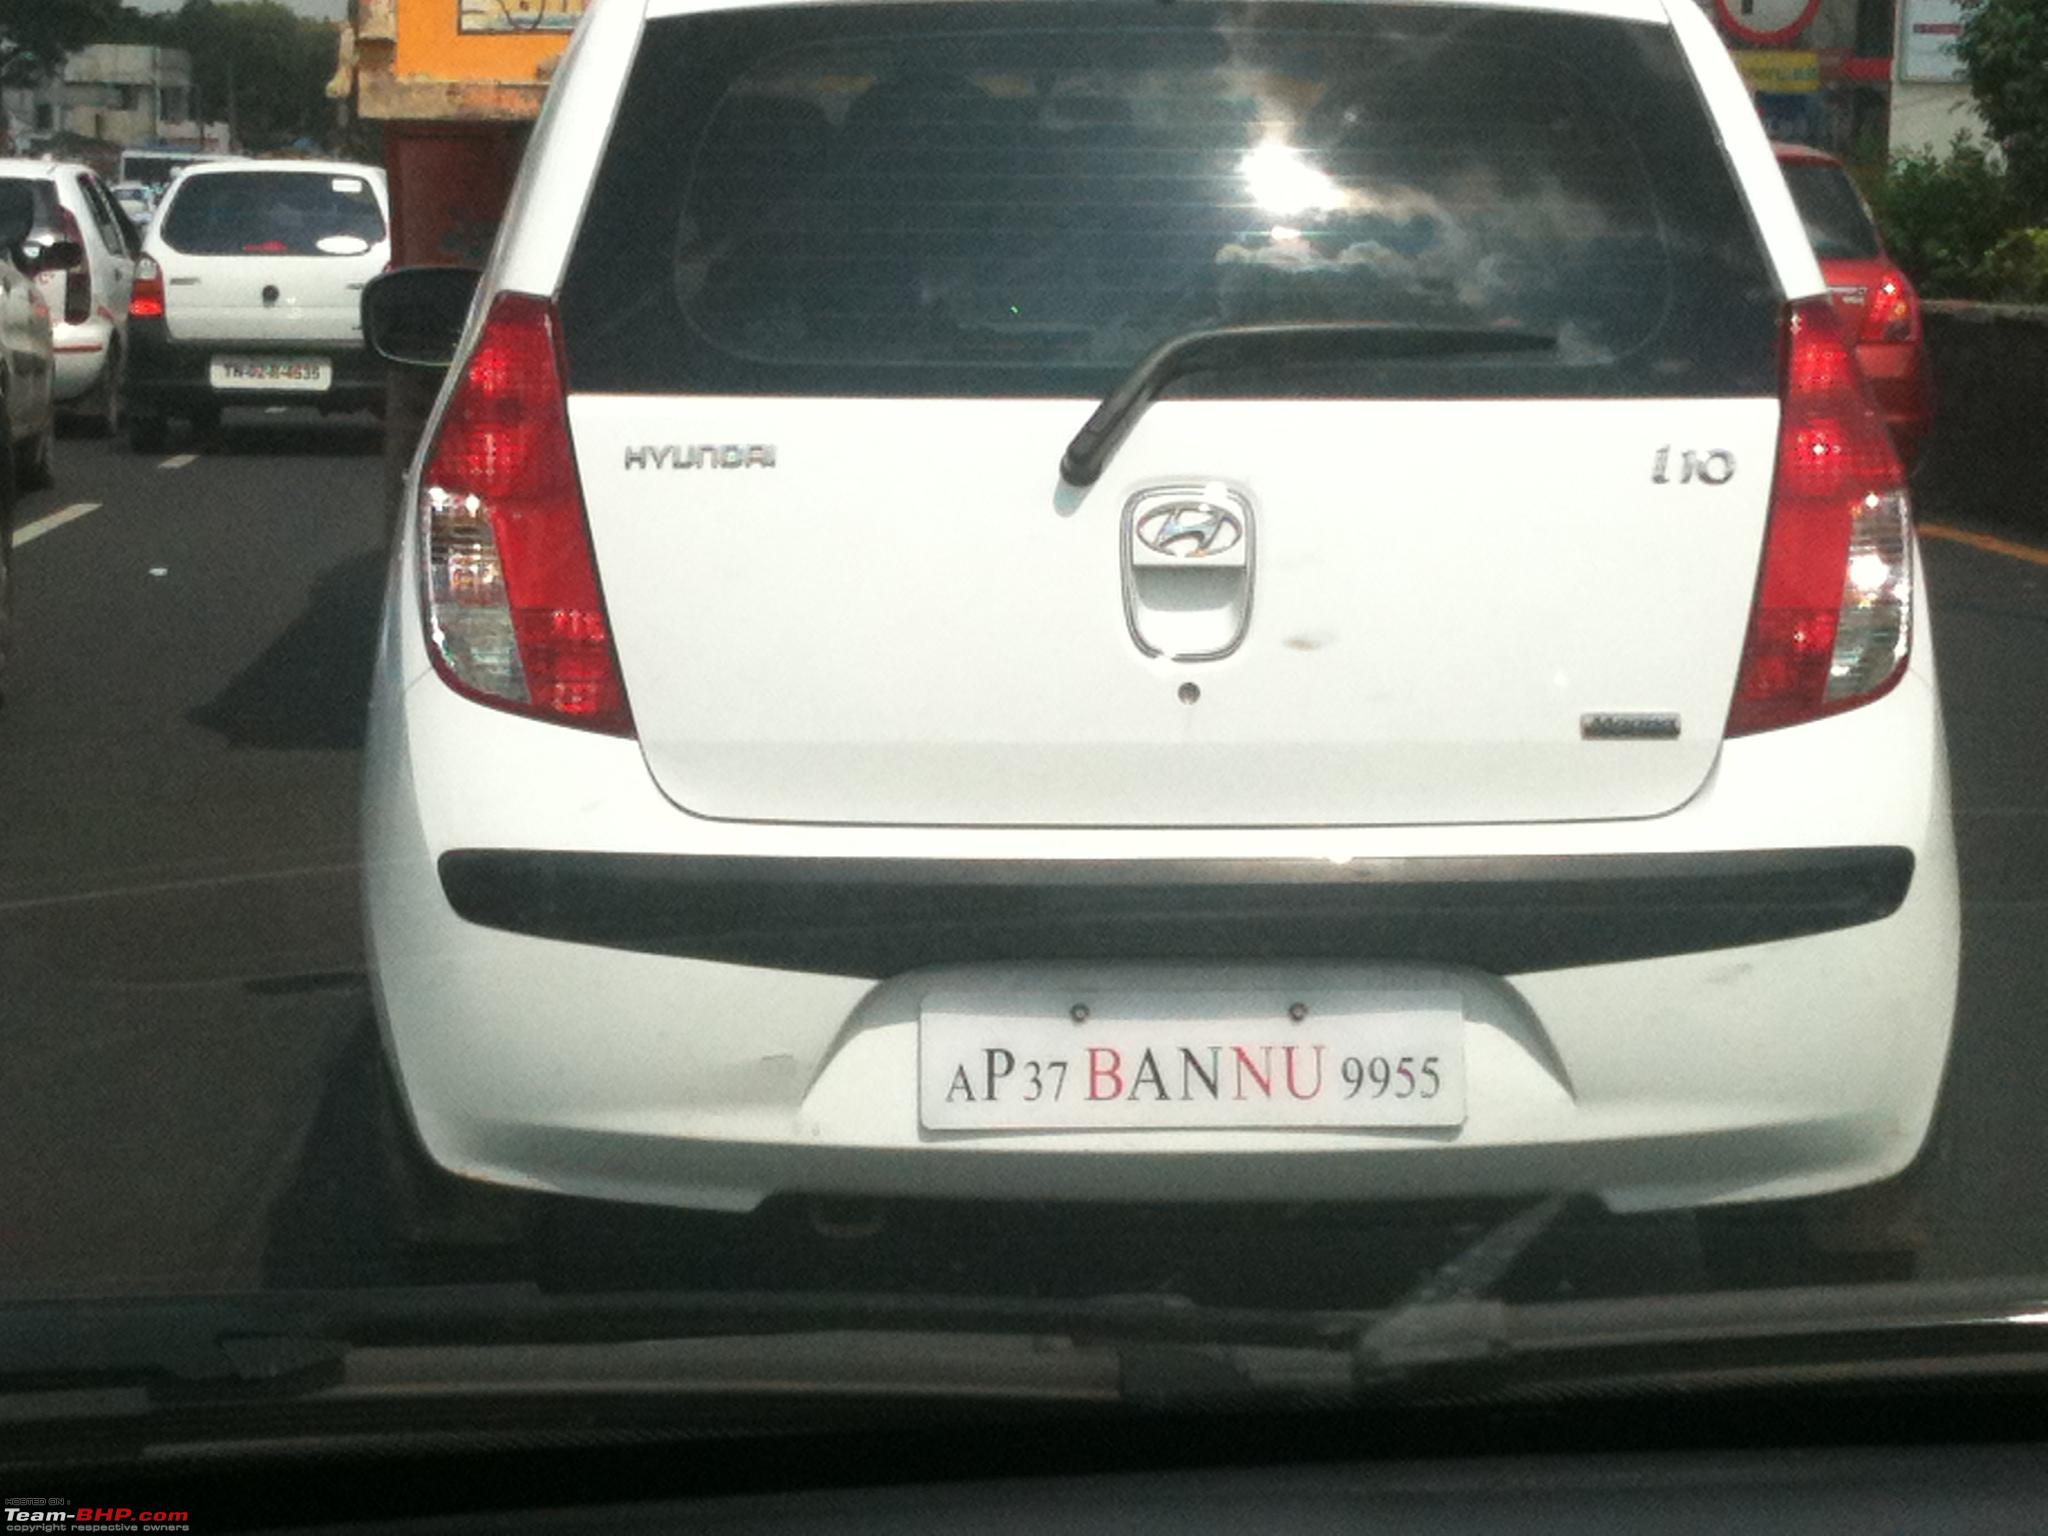number_plate: (919, 982, 1476, 1146)
